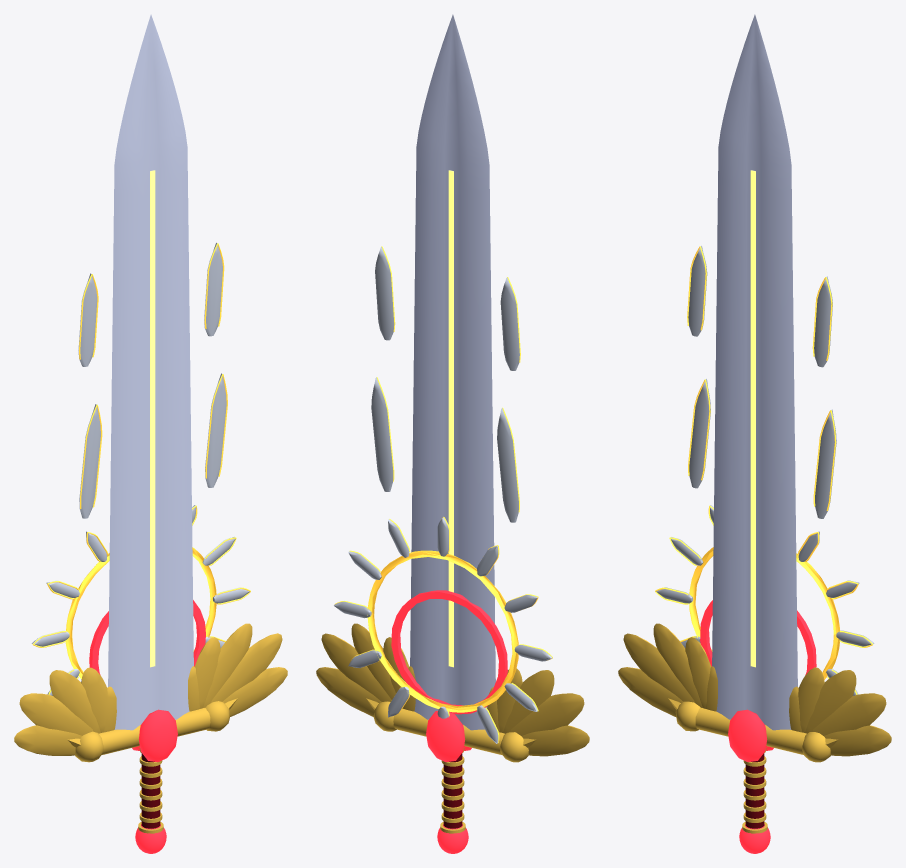
Rendered from warrior_sword.glb.
The picture shows the model from 3 angles, left to right: view 1: azimuth 30°, elevation 25°; view 2: azimuth 150°, elevation 25°; view 3: azimuth 330°, elevation 25°; orthographic projection.
Parts seen in each view (by area): view 1: Divine_sword; view 2: Divine_sword; view 3: Divine_sword.
Part boxes in pixels (bbox=[...]): Divine_sword: bbox=[14, 14, 287, 853]; Divine_sword: bbox=[316, 14, 589, 853]; Divine_sword: bbox=[618, 14, 891, 853].
Size of the model in its own units: 0.5664 by 1.66 by 0.096.
